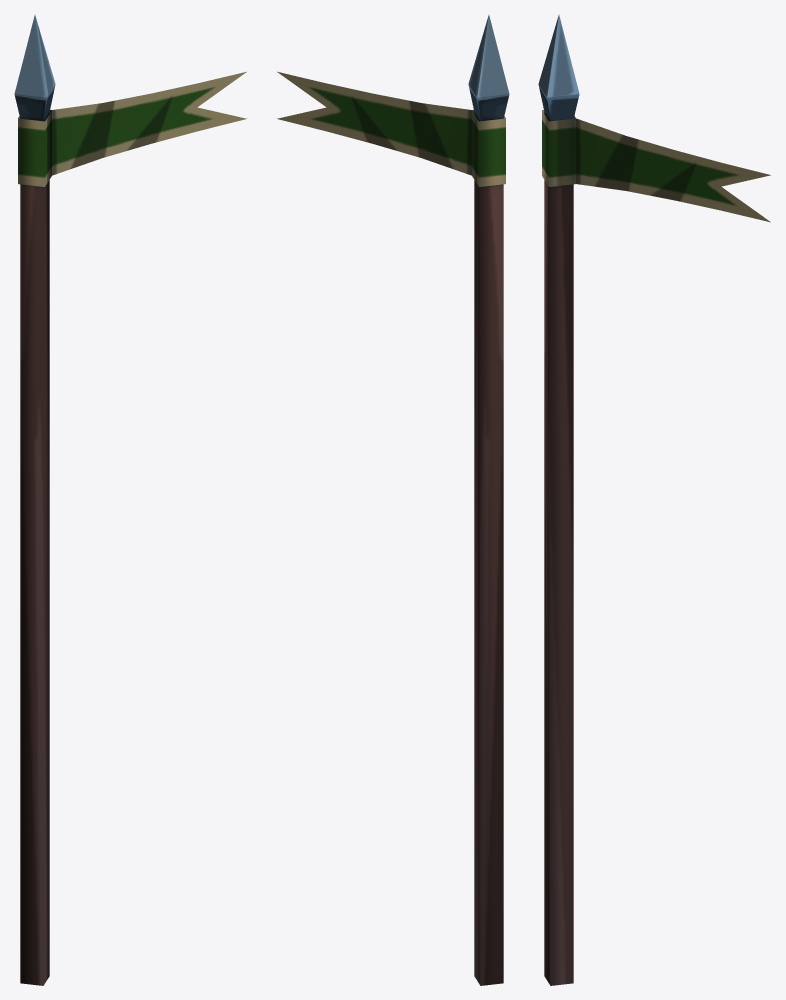
Rendered from arena_1.FBX.
3 renders of one model, left to right at view 1: azimuth 30°, elevation 25°; view 2: azimuth 150°, elevation 25°; view 3: azimuth 330°, elevation 25°, orthographic.
Visible parts, largest first — view 1: Cylinder006; view 2: Cylinder006; view 3: Cylinder006.
Part boxes in pixels (left/top/right/bottom): Cylinder006: left=14, top=15, right=246, bottom=985; Cylinder006: left=277, top=15, right=509, bottom=985; Cylinder006: left=538, top=15, right=770, bottom=985.
Size of the model in its own units: 166 by 657 by 29.25.
